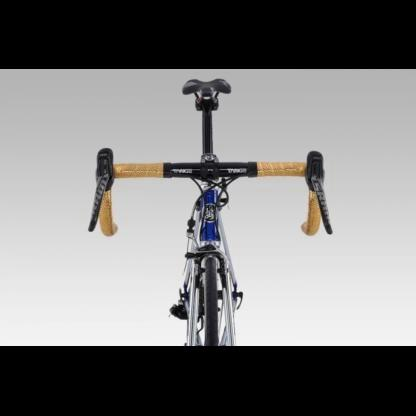Bicycle: (55, 67, 374, 349)
